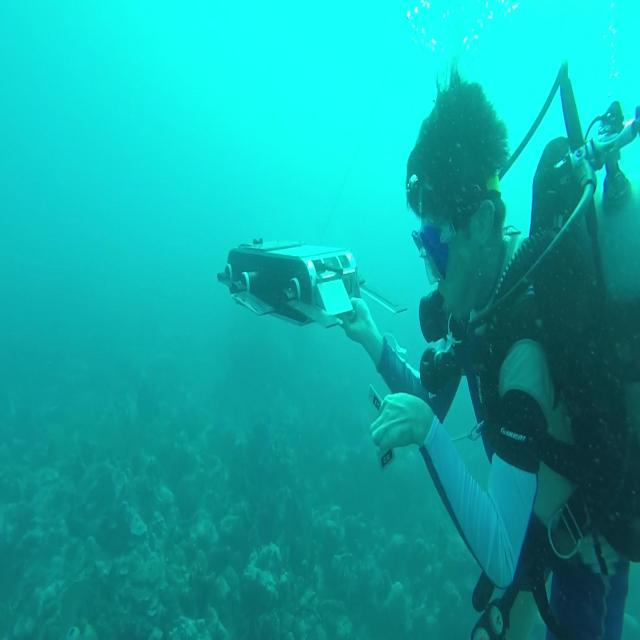human: (336, 60, 638, 638)
